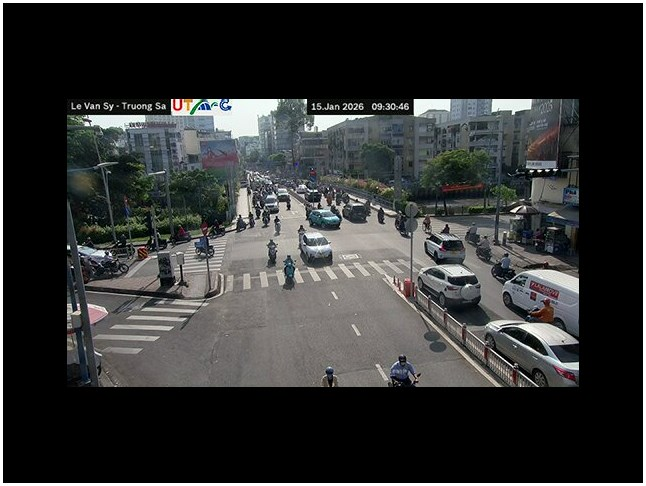car: (459, 317, 579, 386), (501, 268, 579, 333), (417, 263, 482, 309), (424, 234, 466, 264), (299, 227, 332, 263), (308, 208, 342, 230), (344, 202, 371, 223)
